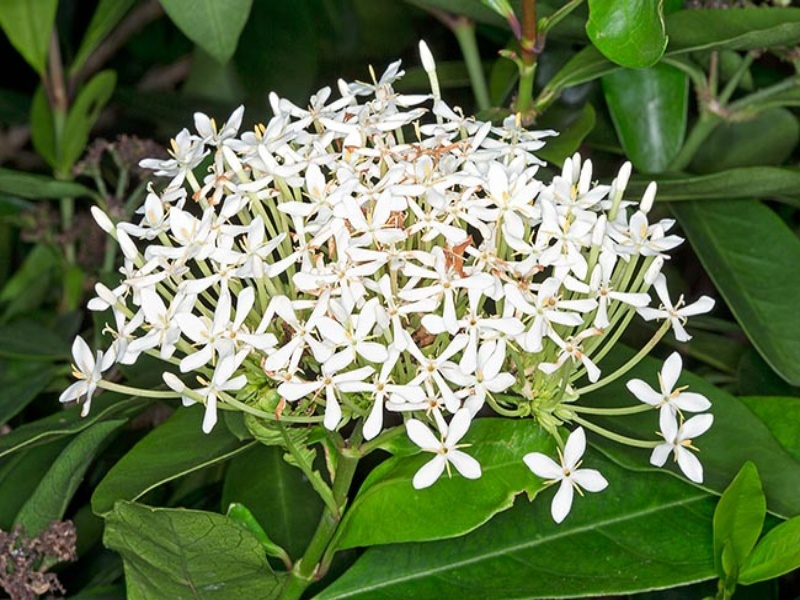Ixora: (48, 42, 740, 533)
